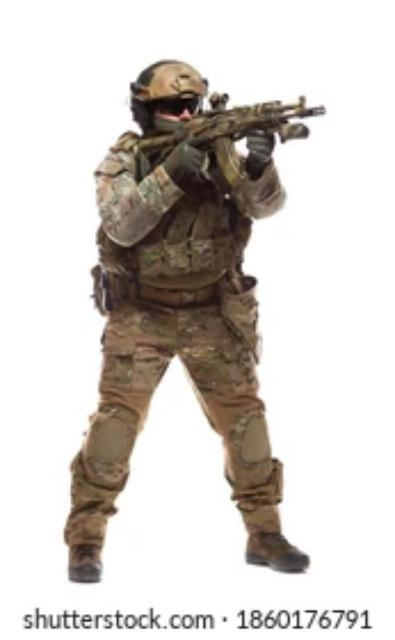other: (61, 57, 298, 579)
